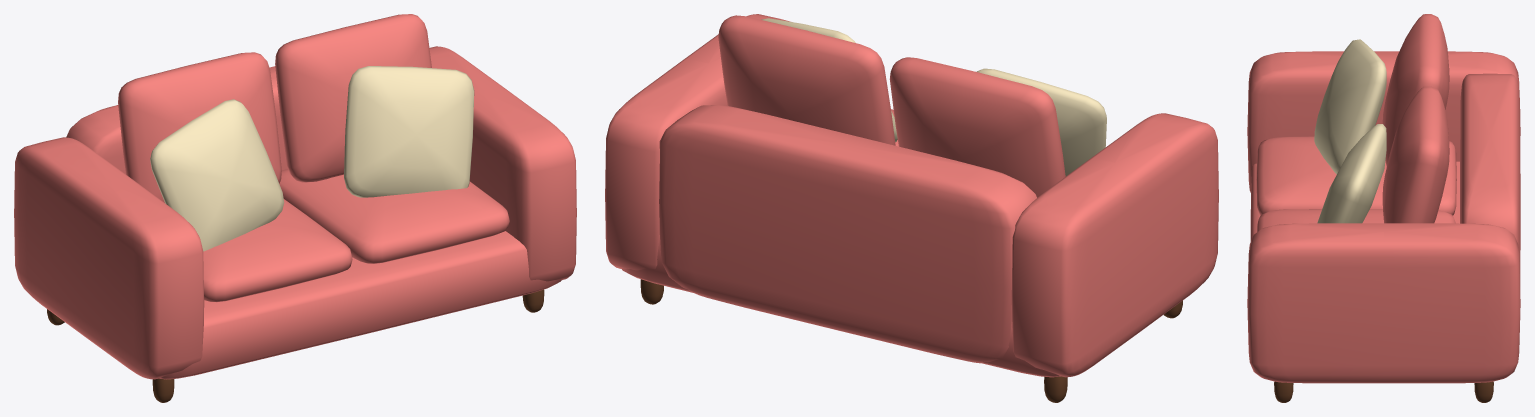
Rendered from sofa_classico_dois_lugares_coral.glb.
3 renders of one model, left to right at view 1: azimuth 30°, elevation 25°; view 2: azimuth 150°, elevation 25°; view 3: azimuth 270°, elevation 25°, orthographic. The views are drawn at different scales.
Parts seen in each view (by area): view 1: sofa_classico_dois_lugares_coral; view 2: sofa_classico_dois_lugares_coral; view 3: sofa_classico_dois_lugares_coral.
Boxes of the visible parts, bbox=[...] form: sofa_classico_dois_lugares_coral: bbox=[14, 14, 576, 402]; sofa_classico_dois_lugares_coral: bbox=[605, 14, 1218, 402]; sofa_classico_dois_lugares_coral: bbox=[1247, 14, 1520, 402].
Bounding box in the file's own units: 1.55 × 0.8707 × 0.9.
1 material, 1 textured.
